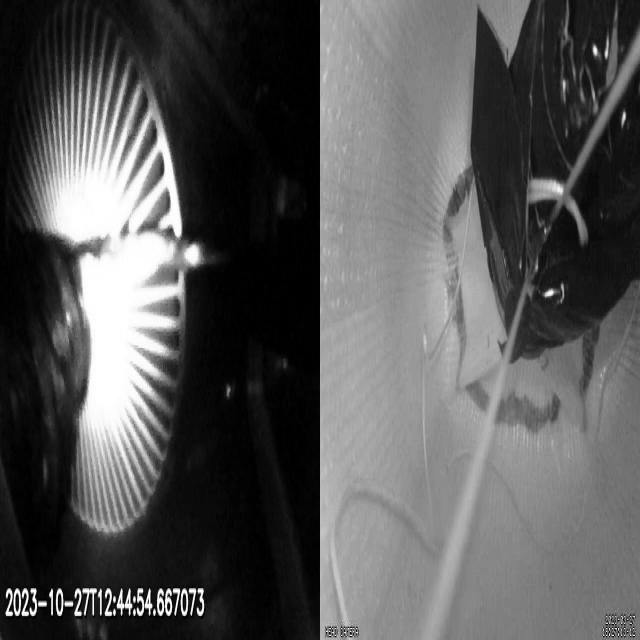red-circle: (442, 167, 600, 433)
